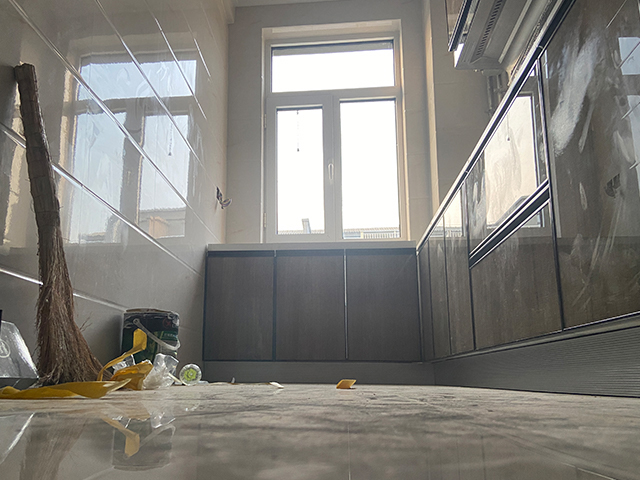cabinet: (417, 1, 640, 405), (200, 239, 425, 384)
trashcan: (121, 306, 181, 387)
